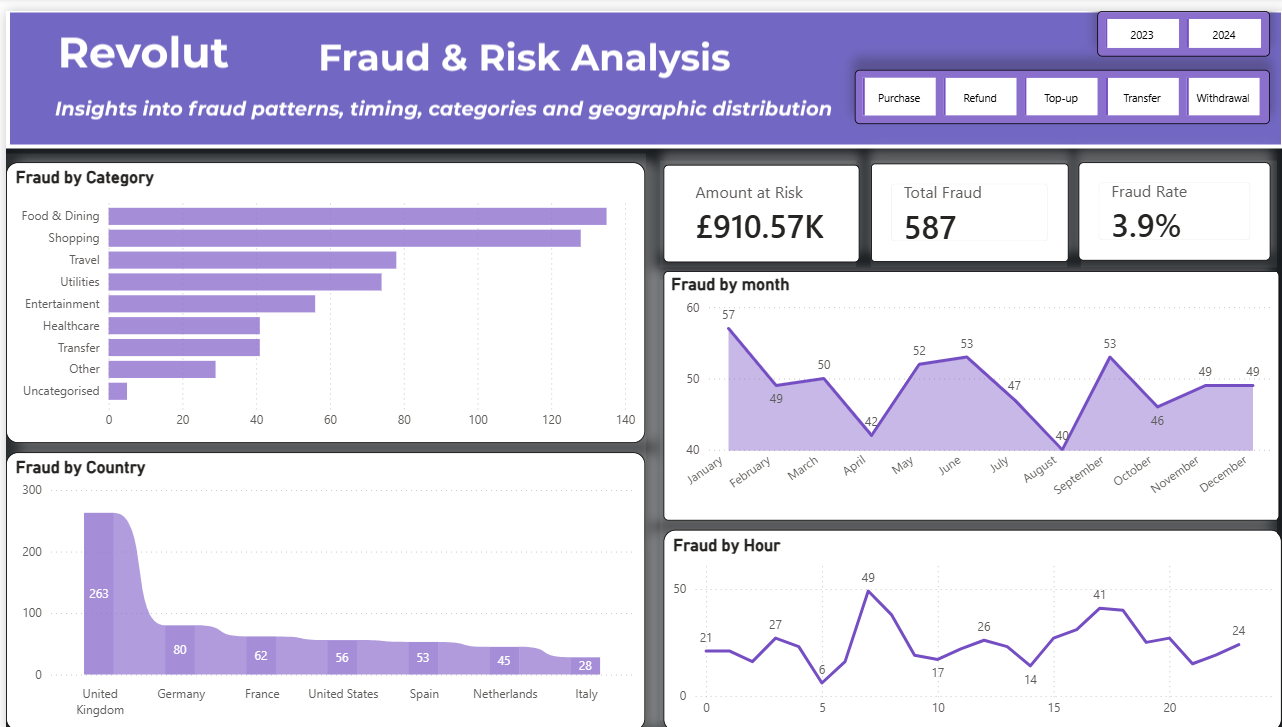

The dashboard page shown, as its layout file describes it:
{"tool":"powerbi","page":{"name":"Fraud","canvas":[1280,720],"ordinal":2},"visuals":[{"type":"cardVisual","fields":{"Data":["revolut_cleaned.Amount at Risk"]},"box":[657.3,153.7,196.2,97.4],"z":0},{"type":"cardVisual","fields":{"Data":["revolut_cleaned.Total Fraud"]},"box":[864.5,152.3,197.6,98.8],"z":1000},{"type":"cardVisual","fields":{"Data":["revolut_cleaned.Fraud Rate"]},"box":[1073.1,150.9,192.1,98.8],"z":2000},{"type":"clusteredBarChart","title":"Fraud by Category","fields":{"Category":["revolut_cleaned.transaction_category"],"Y":["revolut_cleaned.Total Fraud"]},"box":[0,150.8,639.4,281.1],"z":3000},{"type":"ribbonChart","title":"Fraud by Country","fields":{"Category":["revolut_cleaned.country"],"Y":["revolut_cleaned.Total Fraud"]},"box":[0,441.6,639.4,278.7],"z":4000},{"type":"areaChart","title":"Fraud by month","fields":{"Category":["revolut_cleaned.month_name"],"Y":["revolut_cleaned.Total Fraud"]},"box":[657.5,259.4,616.5,249.7],"z":5000},{"type":"lineChart","title":"Fraud by Hour","fields":{"Category":["revolut_cleaned.hour"],"Y":["revolut_cleaned.Total Fraud"]},"box":[657.5,518.8,618.9,201.5],"z":6000},{"type":"advancedSlicerVisual","fields":{"Values":["revolut_cleaned.transaction_type"]},"box":[849.3,59.1,415,54.3],"z":7000},{"type":"advancedSlicerVisual","fields":{"Values":["revolut_cleaned.year"]},"box":[1091.8,0,172.5,45.8],"z":8000}]}

Visuals, with their boxes in screenshot pixels (x1, y1, x2, y2), scaled from the page's 1280x720 canvas onto the 1282x727 screenshot:
cardVisual - revolut_cleaned.Amount at Risk: rect(658, 155, 855, 254)
cardVisual - revolut_cleaned.Total Fraud: rect(866, 154, 1064, 254)
cardVisual - revolut_cleaned.Fraud Rate: rect(1075, 152, 1267, 252)
"Fraud by Category" clusteredBarChart: rect(0, 152, 640, 436)
"Fraud by Country" ribbonChart: rect(0, 446, 640, 726)
"Fraud by month" areaChart: rect(659, 262, 1276, 514)
"Fraud by Hour" lineChart: rect(659, 524, 1278, 726)
advancedSlicerVisual - revolut_cleaned.transaction_type: rect(851, 60, 1266, 115)
advancedSlicerVisual - revolut_cleaned.year: rect(1094, 0, 1266, 46)
